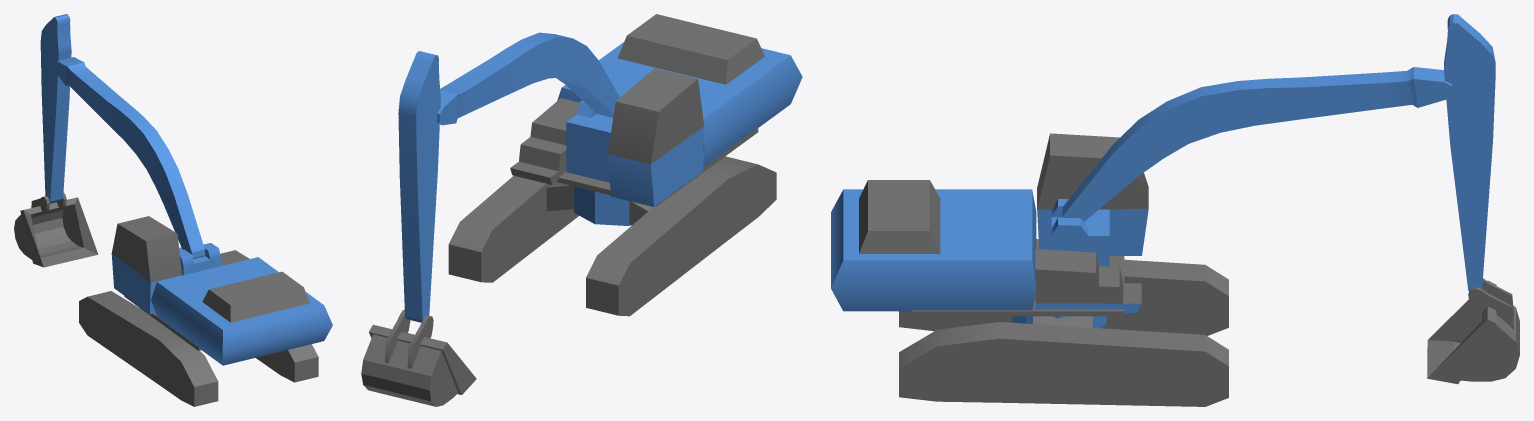
Rendered from Excavadora_001.fbx.
The picture shows the model from 3 angles, left to right: view 1: azimuth 30°, elevation 25°; view 2: azimuth 150°, elevation 25°; view 3: azimuth 270°, elevation 25°; orthographic projection. The views are drawn at different scales.
Parts seen in each view (by area): view 1: BODY, WHEELS, BRAZO, PLUMA, CUCHARA; view 2: BODY, WHEELS, PLUMA, BRAZO, CUCHARA; view 3: BODY, WHEELS, BRAZO, PLUMA, CUCHARA.
Boxes of the visible parts, bbox=[...] form: BODY: bbox=[111, 216, 332, 365]; WHEELS: bbox=[79, 291, 318, 406]; BRAZO: bbox=[53, 57, 205, 258]; PLUMA: bbox=[40, 14, 71, 202]; CUCHARA: bbox=[14, 192, 98, 267]; BODY: bbox=[510, 14, 802, 206]; WHEELS: bbox=[448, 156, 776, 316]; PLUMA: bbox=[398, 51, 440, 322]; BRAZO: bbox=[437, 32, 619, 125]; CUCHARA: bbox=[361, 310, 476, 406]; BODY: bbox=[831, 133, 1148, 316]; WHEELS: bbox=[899, 259, 1228, 406]; BRAZO: bbox=[1062, 67, 1452, 221]; PLUMA: bbox=[1444, 14, 1495, 291]; CUCHARA: bbox=[1427, 278, 1519, 384].
Bounding box in the file's own units: 303 × 564 × 1016.
